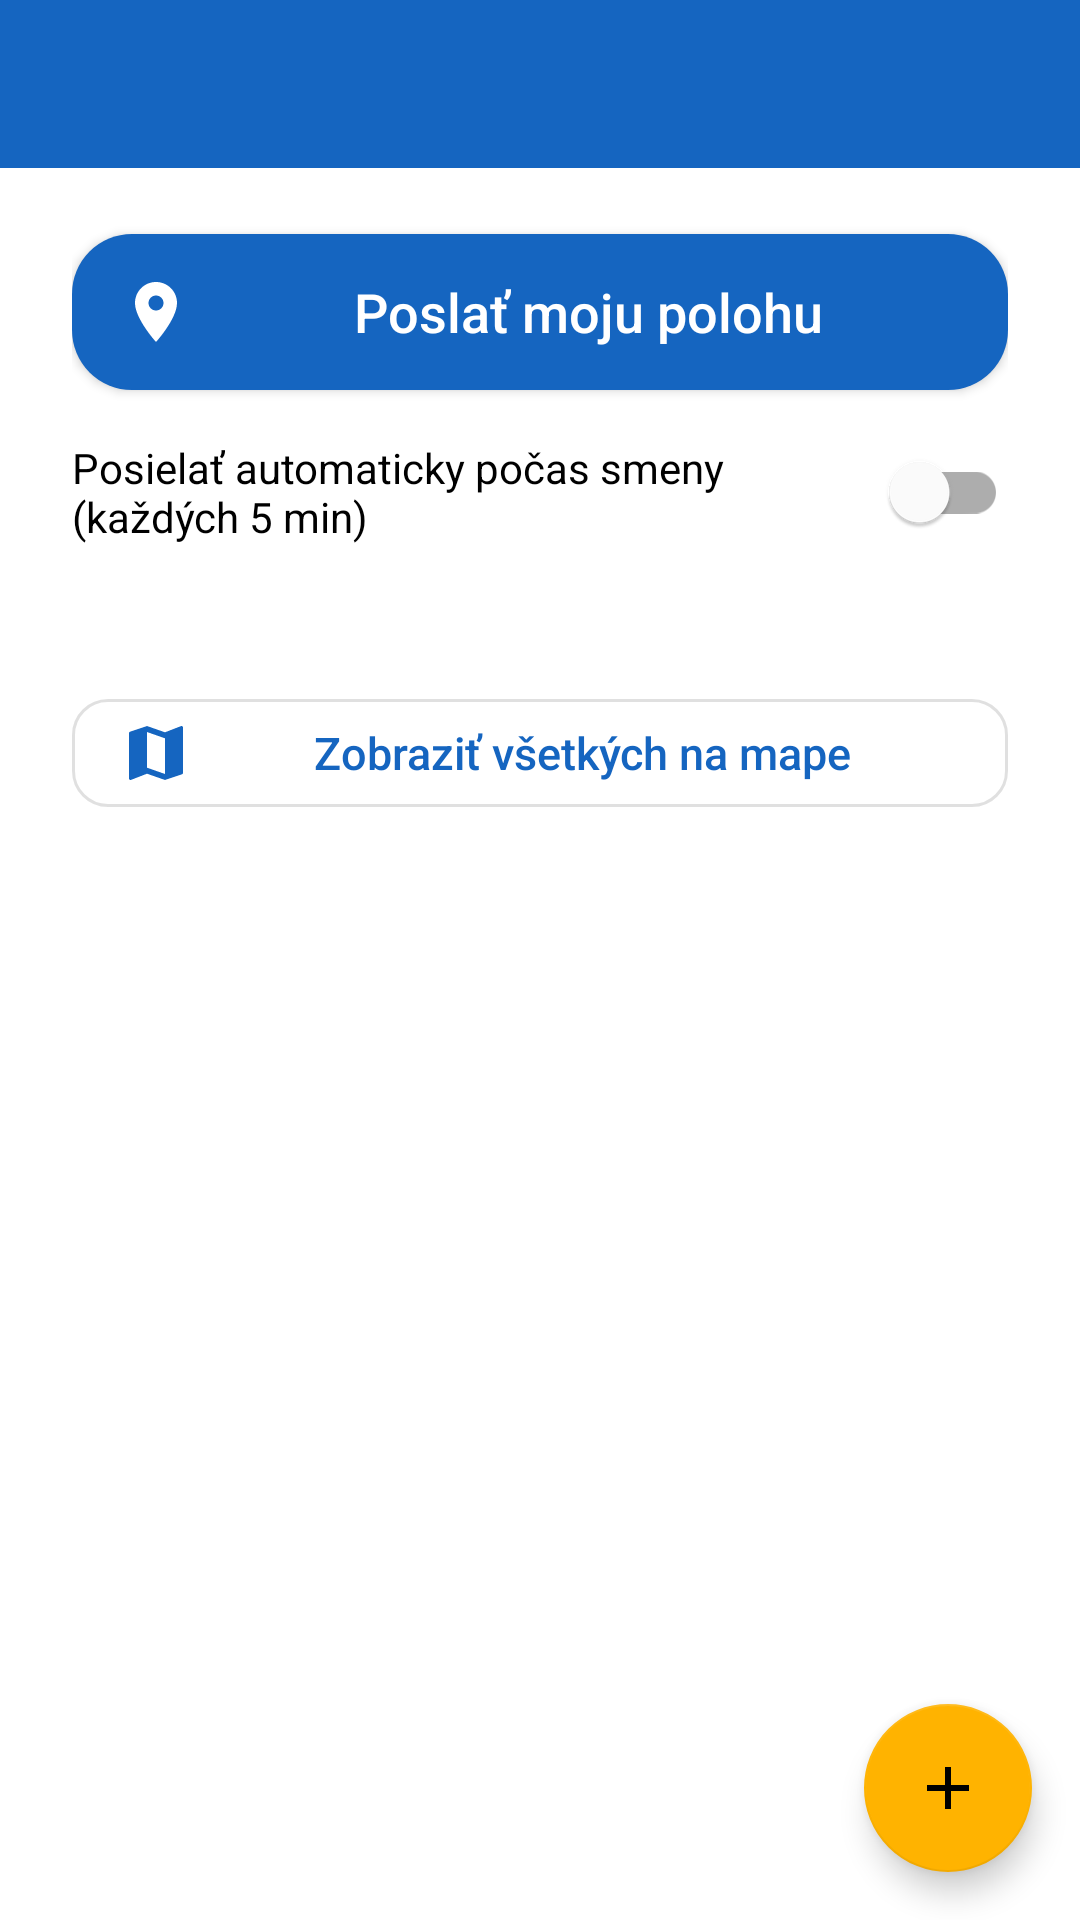

Screen size 1080 × 1920. Icon name, then its box in pixels as [x1=x1, y1=y1, x2=x2, y2=y2]:
Pridať: [x1=864, y1=1704, x2=1032, y2=1872]
